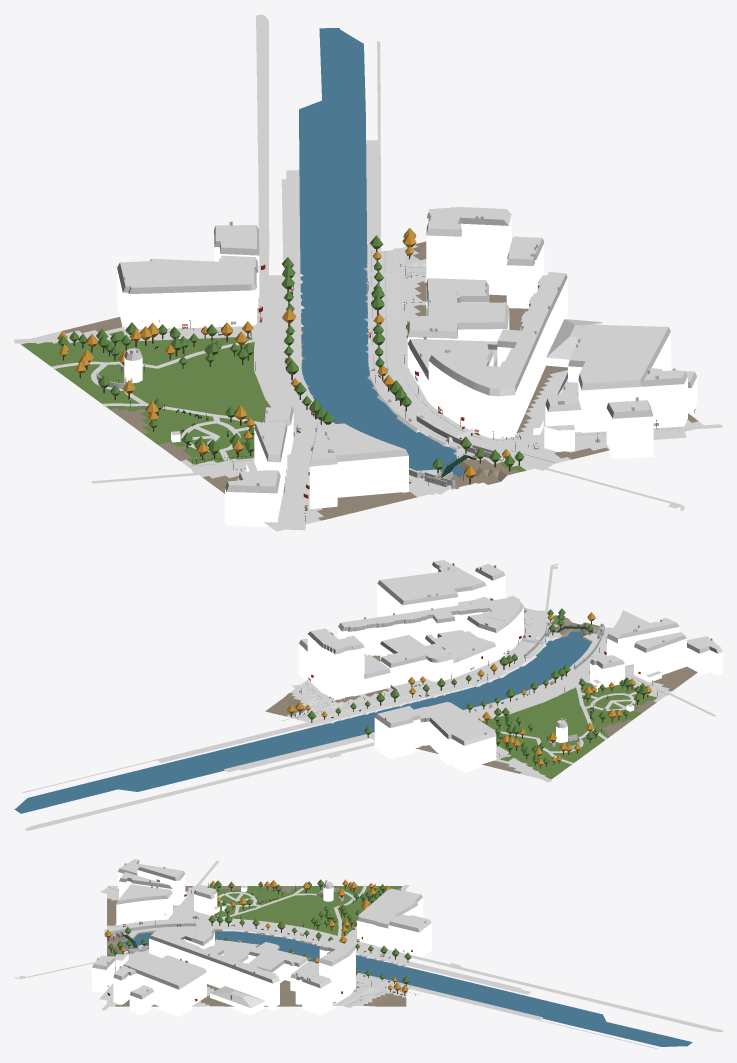
File: zone_A6.glb
The picture shows the model from 3 angles, top to bottom: view 1: azimuth 30°, elevation 25°; view 2: azimuth 150°, elevation 25°; view 3: azimuth 270°, elevation 25°; orthographic projection. The views are drawn at different scales.
Visible parts, largest first — view 1: zone_A6_batiments, zone_A6_sol_NOCOL, zone_A6_eau, zone_A6_terrain, zone_A6_decor_NOCOL; view 2: zone_A6_batiments, zone_A6_sol_NOCOL, zone_A6_terrain, zone_A6_eau, zone_A6_decor_NOCOL; view 3: zone_A6_batiments, zone_A6_sol_NOCOL, zone_A6_terrain, zone_A6_eau, zone_A6_decor_NOCOL.
Part boxes in pixels (left/top/right/bottom): zone_A6_batiments: left=96, top=207, right=697, bottom=526; zone_A6_sol_NOCOL: left=14, top=14, right=722, bottom=530; zone_A6_eau: left=299, top=28, right=465, bottom=477; zone_A6_terrain: left=19, top=241, right=703, bottom=531; zone_A6_decor_NOCOL: left=57, top=228, right=656, bottom=521; zone_A6_batiments: left=299, top=560, right=722, bottom=772; zone_A6_sol_NOCOL: left=22, top=563, right=716, bottom=830; zone_A6_terrain: left=265, top=607, right=697, bottom=779; zone_A6_eau: left=14, top=631, right=591, bottom=813; zone_A6_decor_NOCOL: left=283, top=608, right=657, bottom=768; zone_A6_batiments: left=92, top=859, right=431, bottom=1016; zone_A6_sol_NOCOL: left=14, top=860, right=722, bottom=1048; zone_A6_terrain: left=107, top=886, right=406, bottom=1006; zone_A6_eau: left=122, top=931, right=692, bottom=1046; zone_A6_decor_NOCOL: left=104, top=879, right=415, bottom=996.
Size of what is drawn, in the model's own units: 312 by 37.22 by 497.
